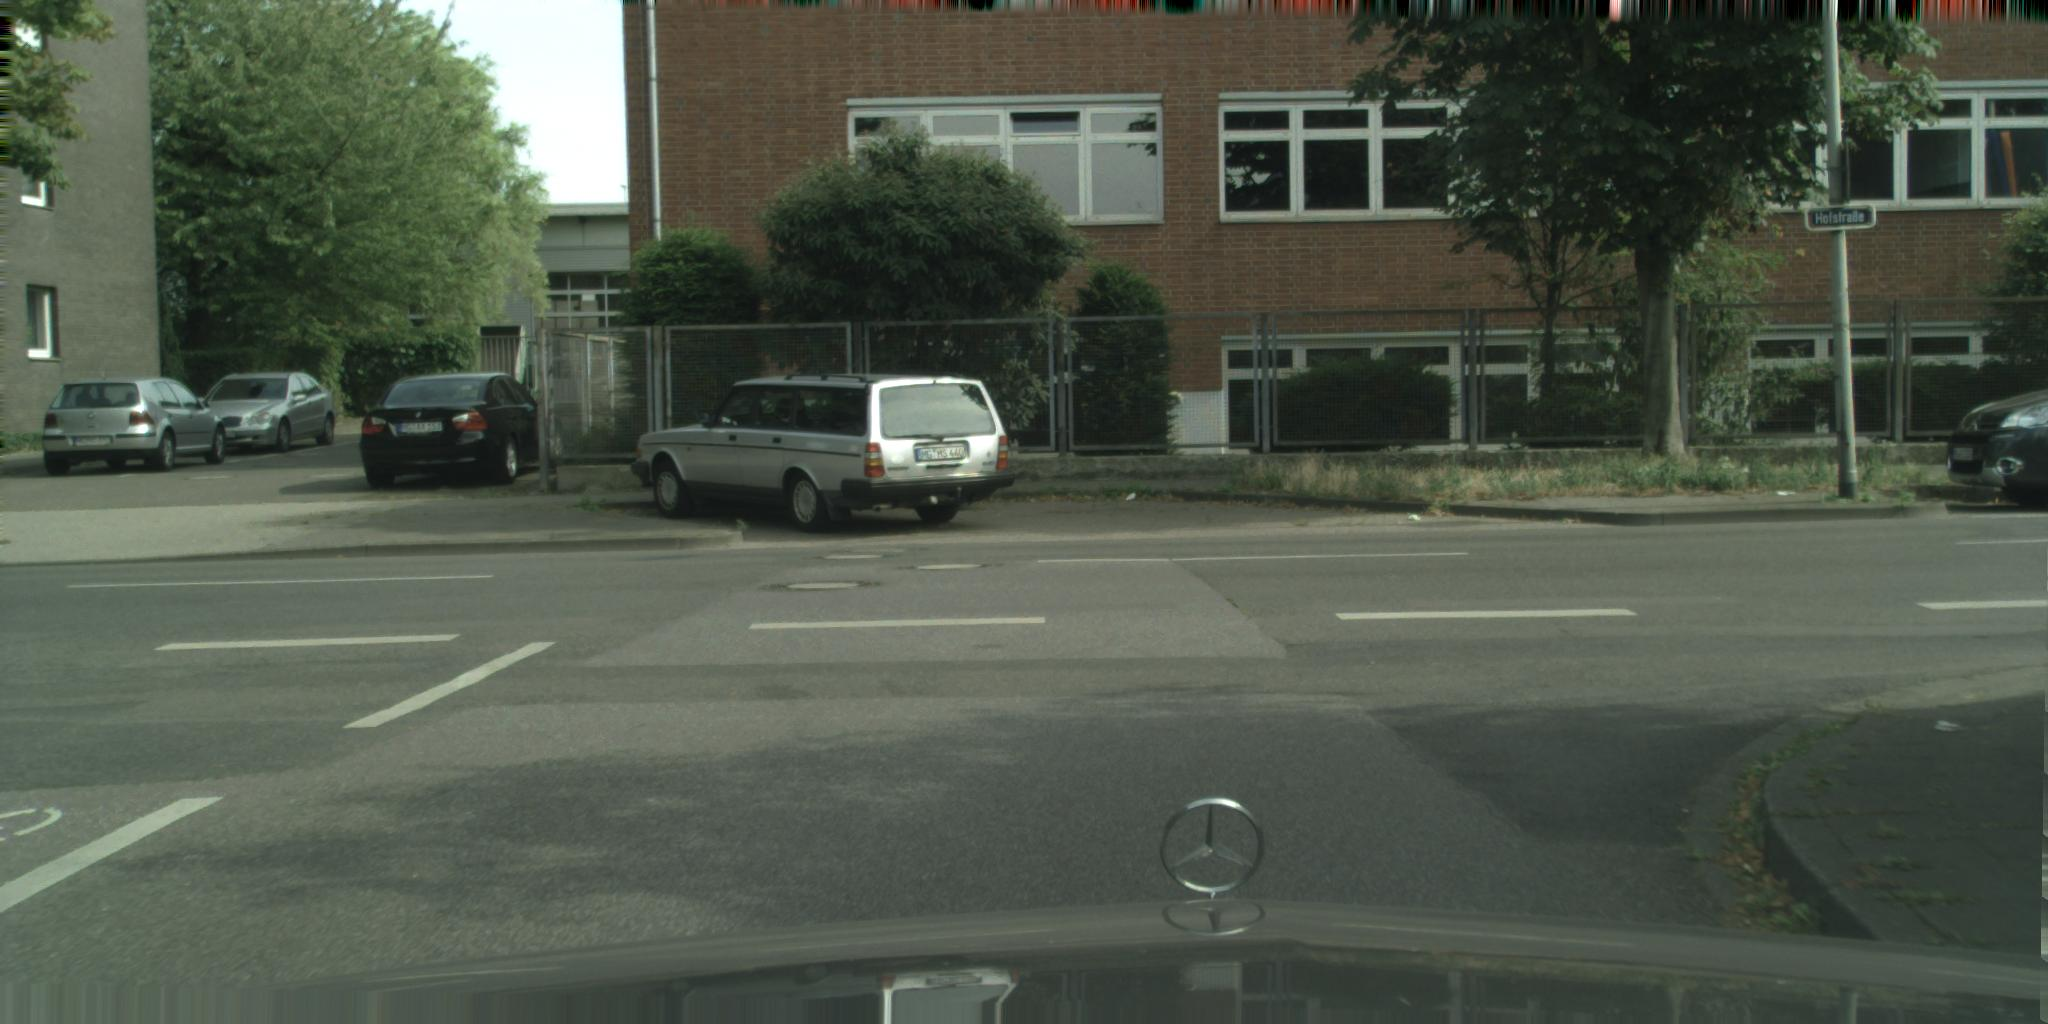car: (632, 374, 1016, 533), (360, 374, 541, 491), (43, 377, 227, 478), (1947, 388, 2048, 508), (195, 374, 337, 453)
